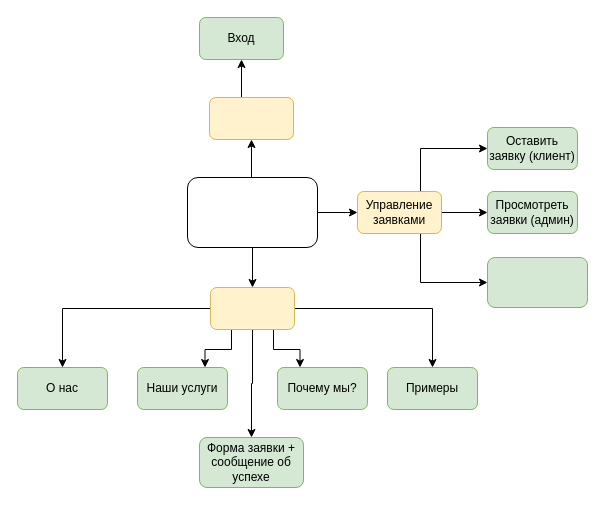
Image size: 605x505. Some labels were removed from this diagram. The shapes that lost their labels are listed below. From the top down, each one's centre as x and y in pixels, then its label:
point (251, 118): Авторизация (админ)
point (252, 212): Веб-приложение для оказания услуг благоустройства
point (537, 282): Редактирование и удаление заявки (админ)
point (252, 308): Контент на сайте
